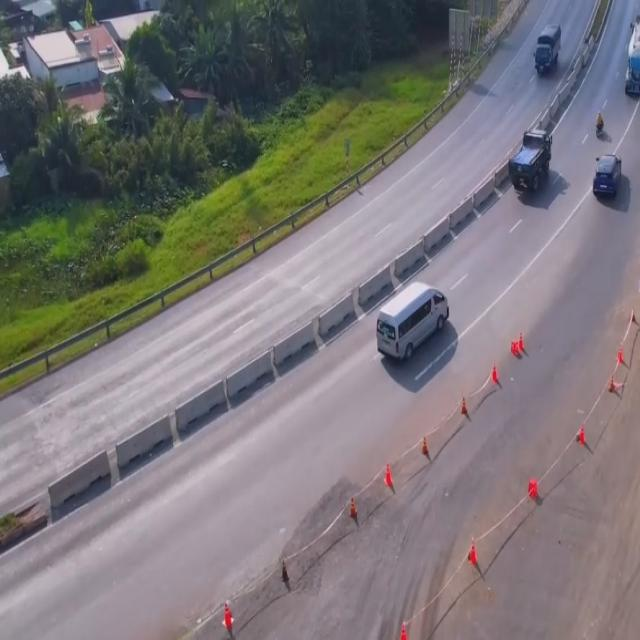car: (377, 284, 458, 370), (590, 155, 620, 202)
motorbike: (593, 111, 606, 138)
truck: (508, 124, 552, 198), (534, 23, 560, 80), (626, 2, 640, 99)
